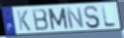B: (31, 8, 50, 32)
K: (16, 10, 32, 32)
L: (101, 5, 117, 28)
M: (47, 7, 70, 31)
N: (64, 7, 85, 30)
S: (83, 5, 101, 30)
